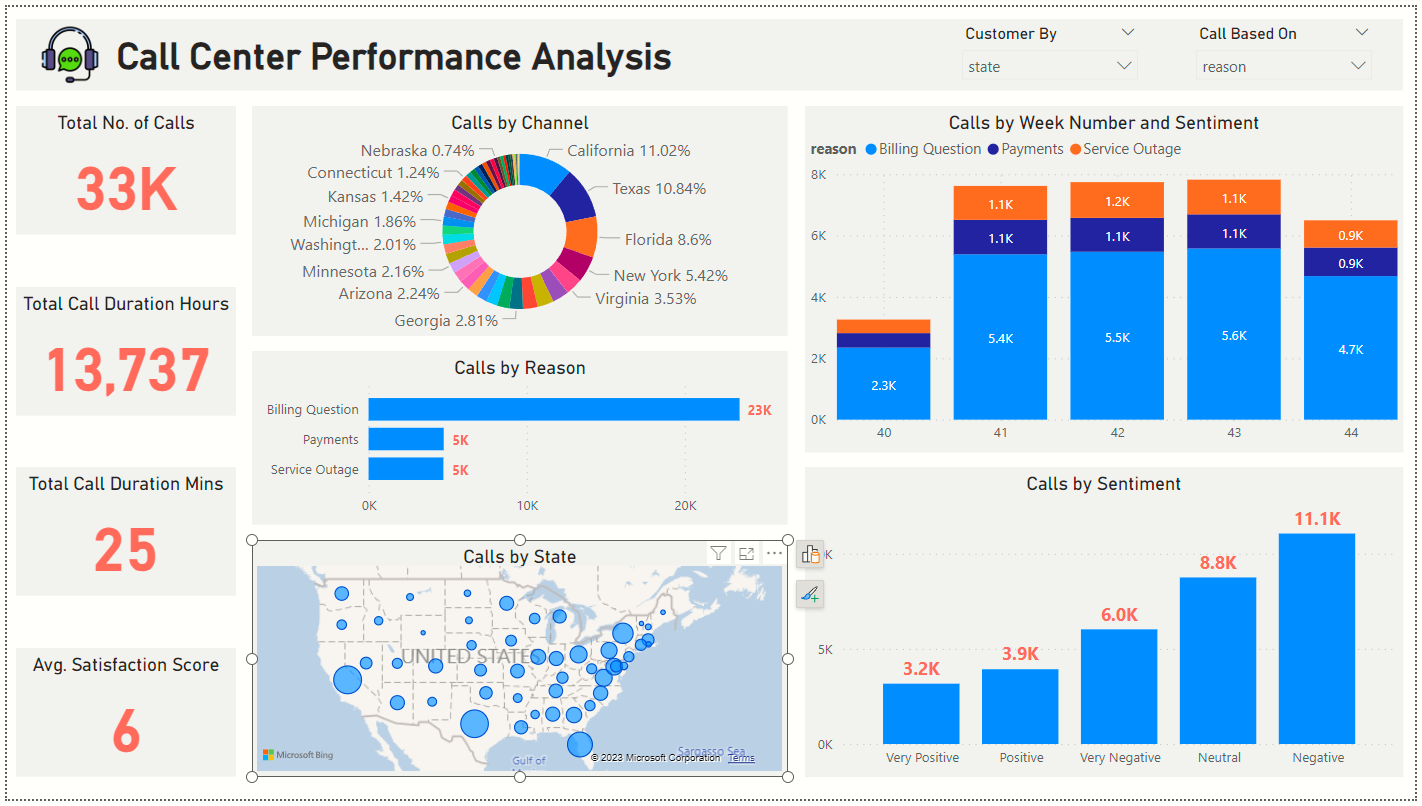

What the dashboard file says about the page in this screenshot:
{"tool":"powerbi","page":{"name":"Page 1","canvas":[1280,720],"ordinal":0},"visuals":[{"type":"card","title":"Total No. of Calls","fields":{"Values":["Call Center.Total Calls"]},"box":[8.2,90,200,117.3],"z":0},{"type":"card","title":"Total Call Duration Hours","fields":{"Values":["Call Center.Total Call Duration Hrs"]},"box":[8.2,254.2,200,117.3],"z":1000},{"type":"card","title":"Total Call Duration Mins","fields":{"Values":["Call Center.Avg Call Duration in Mins"]},"box":[8.2,418.5,200,117.3],"z":2000},{"type":"card","title":"Avg. Satisfaction Score","fields":{"Values":["Call Center.Avg Csat Score"]},"box":[8.2,582.7,200,117.3],"z":3000},{"type":"textbox","box":[8.2,10.9,1260.9,65.5],"z":4000},{"type":"clusteredBarChart","title":"Calls by Reason","fields":{"Category":["Call Center.reason"],"Y":["Call Center.Total Calls"]},"box":[222.7,312.7,487.3,158.2],"z":4001},{"type":"clusteredColumnChart","title":"Calls by Sentiment","fields":{"Category":["Call Center.sentiment"],"Y":["Call Center.Total Calls"]},"box":[725.5,418.2,543.6,281.8],"z":4002},{"type":"slicer","fields":{"Values":["Customer By.Customer By"]},"box":[858.2,10.9,180,65.5],"z":4003},{"type":"donutChart","title":"Calls by Channel","fields":{"Category":["Call Center.state"],"Y":["Call Center.Total Calls"]},"box":[222.7,90,487.3,209.1],"z":4004},{"type":"columnChart","title":"Calls by Week Number and Sentiment","fields":{"Y":["Call Center.Total Calls"],"Category":["Call Center.Week Number"],"Series":["Call Center.sentiment"]},"box":[725.5,90,543.6,315.5],"z":4005},{"type":"slicer","fields":{"Values":["Call Based On.Call Based On"]},"box":[1070.9,10.9,180,65.5],"z":4006},{"type":"map","title":"Calls by State","fields":{"Category":["Call Center.state"],"Size":["Call Center.Total Calls"]},"box":[222.7,484.5,487.3,215.5],"z":4007},{"type":"image","box":[21.8,10.9,70.9,65.5],"z":4008}]}

Visuals, with their boxes in screenshot pixels (x1, y1, x2, y2), scaled from the page's 1280x720 canvas onto the 1422x806 screenshot:
"Total No. of Calls" card: [left=9, top=101, right=231, bottom=232]
"Total Call Duration Hours" card: [left=9, top=285, right=231, bottom=416]
"Total Call Duration Mins" card: [left=9, top=468, right=231, bottom=600]
"Avg. Satisfaction Score" card: [left=9, top=652, right=231, bottom=784]
textbox: [left=9, top=12, right=1410, bottom=86]
"Calls by Reason" clusteredBarChart: [left=247, top=350, right=789, bottom=527]
"Calls by Sentiment" clusteredColumnChart: [left=806, top=468, right=1410, bottom=784]
slicer - Customer By.Customer By: [left=953, top=12, right=1153, bottom=86]
"Calls by Channel" donutChart: [left=247, top=101, right=789, bottom=335]
"Calls by Week Number and Sentiment" columnChart: [left=806, top=101, right=1410, bottom=454]
slicer - Call Based On.Call Based On: [left=1190, top=12, right=1390, bottom=86]
"Calls by State" map: [left=247, top=542, right=789, bottom=784]
image: [left=24, top=12, right=103, bottom=86]
